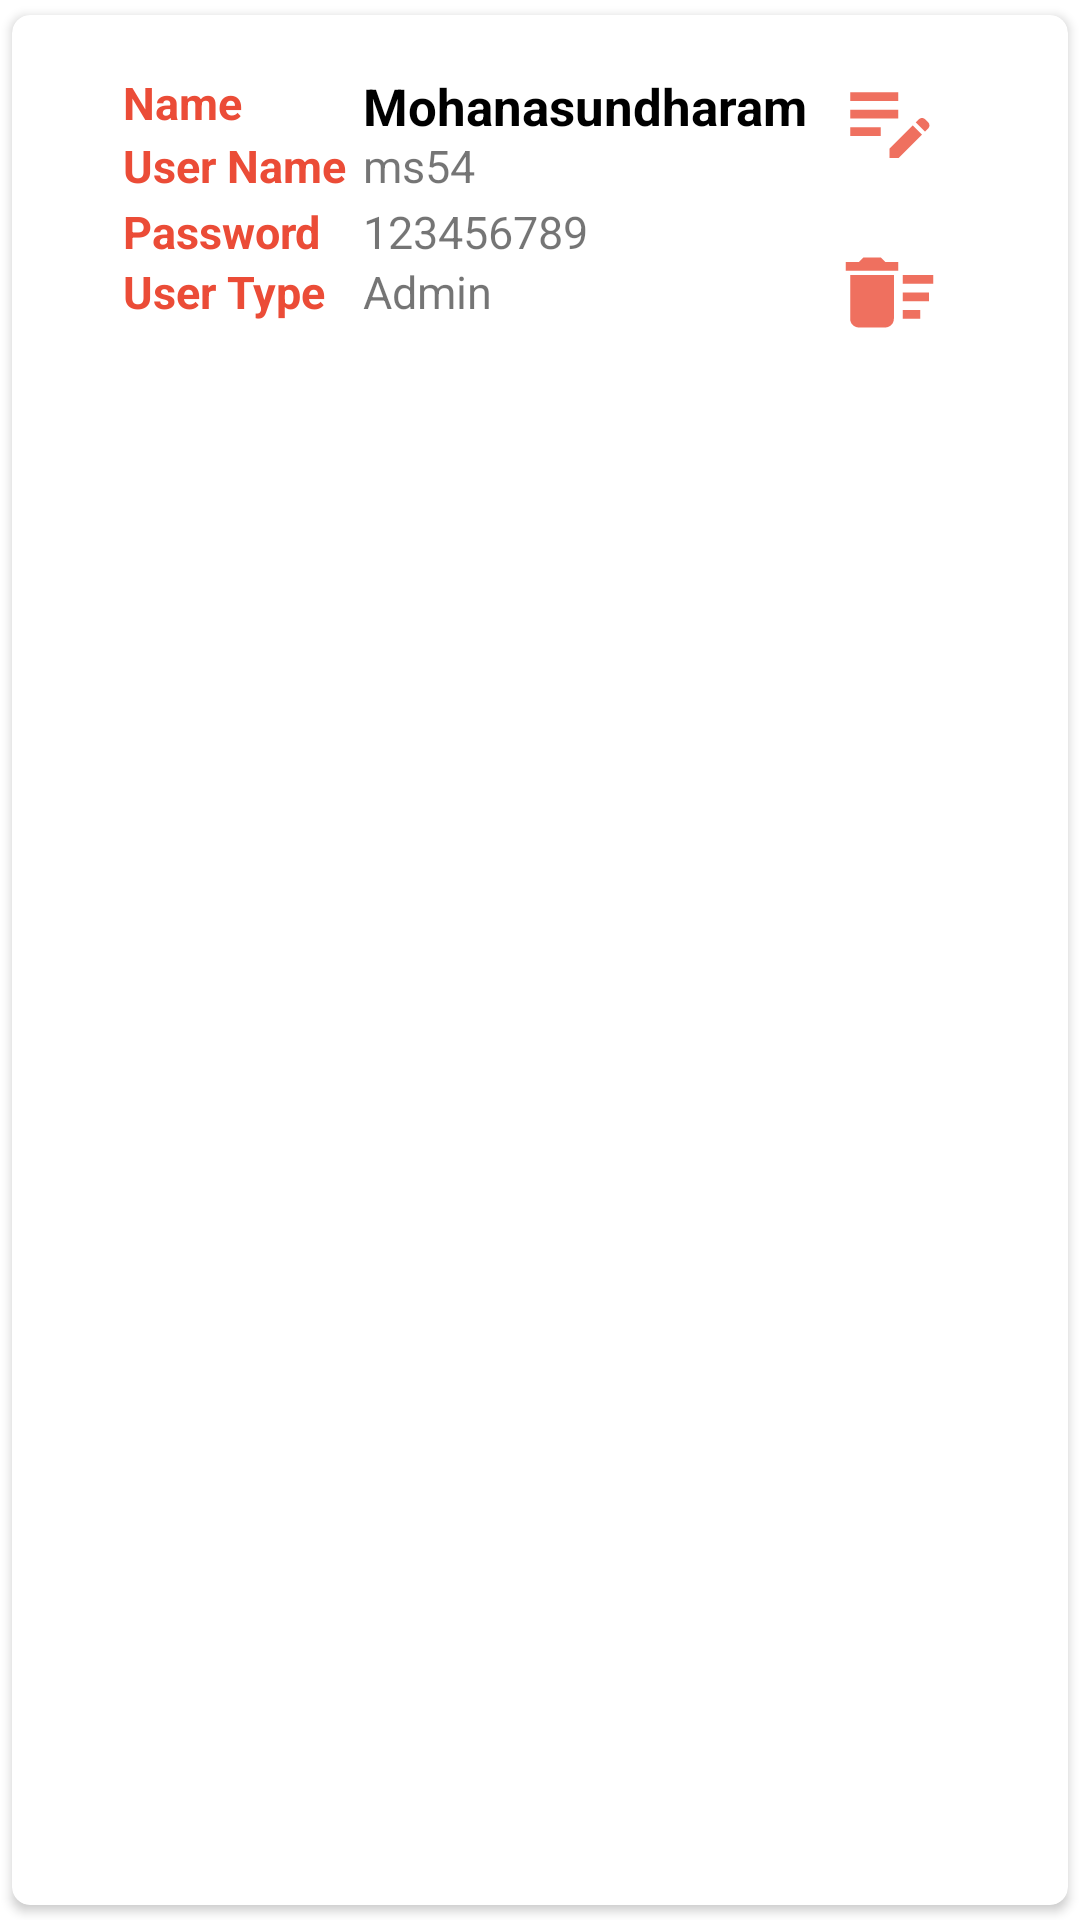

Icons on this 1080 x 1920 Android screen, each with the point to tap as (x,y):
delete: (889,292)
edit: (890,125)
